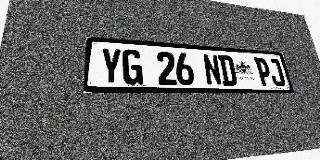2: (156, 51, 177, 85)
6: (174, 52, 195, 86)
D: (218, 55, 238, 86)
G: (122, 49, 143, 85)
J: (267, 58, 286, 87)
N: (202, 54, 223, 86)
P: (254, 57, 274, 86)
Y: (100, 47, 122, 85)
